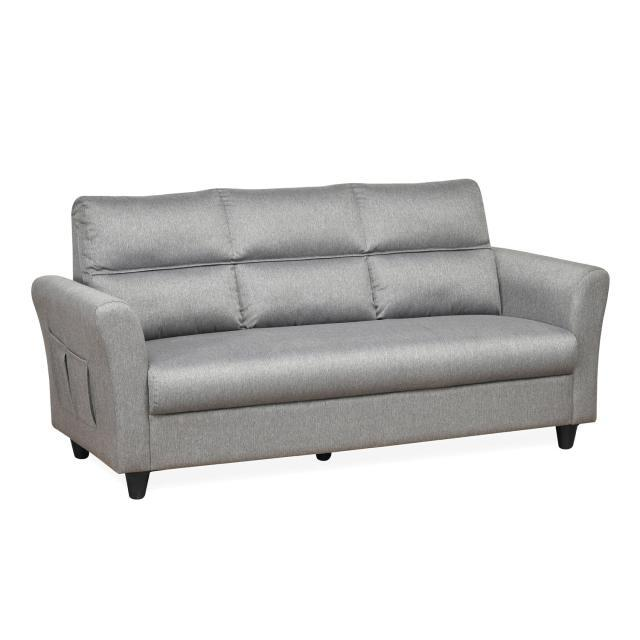sofa: (30, 176, 610, 499)
